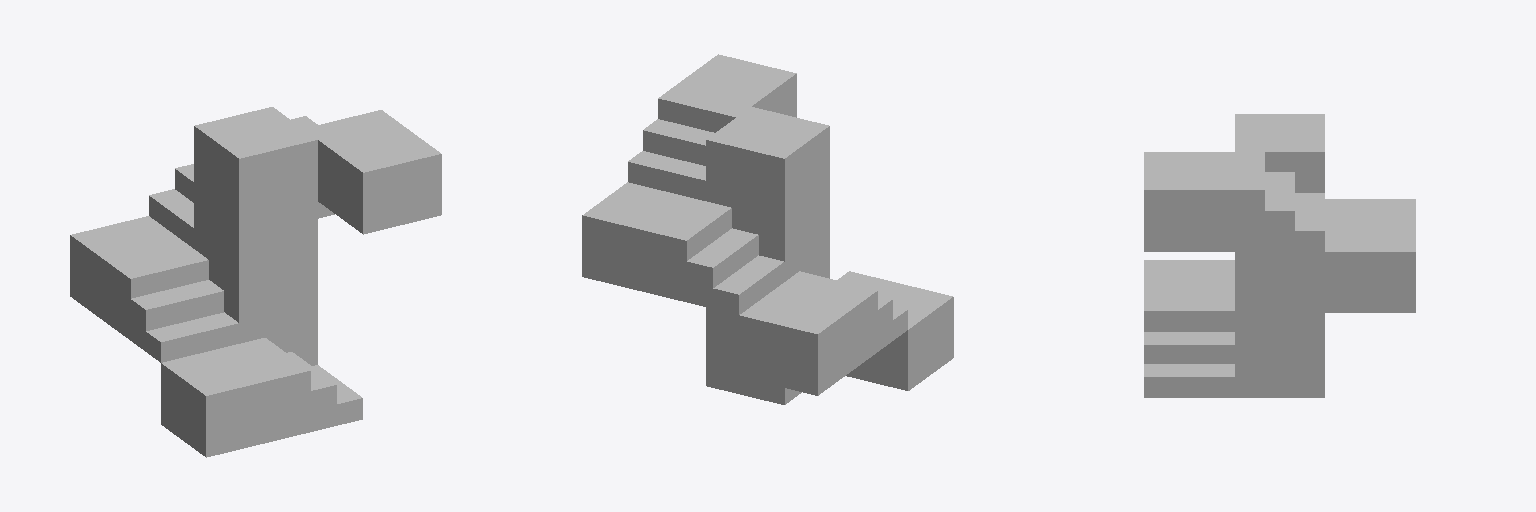
Rendered from steps1-original.obj.
The picture shows the model from 3 angles: view 1: azimuth 30°, elevation 25°; view 2: azimuth 150°, elevation 25°; view 3: azimuth 270°, elevation 25°; orthographic projection.
Parts seen in each view (by area): view 1: 柱子, 大平面1, 大平面4, 大平面2, 台阶2.3, 台阶2.2, 台阶2.1, 台阶1.3, 台阶3.1, 台阶1.2, 台阶4.3, 台阶1.1 (+1 smaller); view 2: 柱子, 大平面2, 大平面3, 大平面1, 大平面4, 台阶3.3, 台阶3.2, 台阶4.1, 台阶3.1, 台阶4.3, 台阶4.2, 台阶2.3 (+1 smaller); view 3: 柱子, 大平面4, 大平面3, 大平面1, 台阶1.1, 台阶1.3, 台阶4.3, 台阶1.2, 台阶4.2, 台阶4.1, 台阶3.3.
Boxes of the visible parts, <box> form: 柱子: <box>194,107,317,365</box>; 大平面1: <box>161,344,284,457</box>; 大平面4: <box>318,121,441,234</box>; 大平面2: <box>70,216,192,329</box>; 台阶2.3: <box>116,249,208,340</box>; 台阶2.2: <box>131,280,223,351</box>; 台阶2.1: <box>146,312,238,362</box>; 台阶1.3: <box>240,338,310,437</box>; 台阶3.1: <box>149,189,193,248</box>; 台阶1.2: <box>287,352,336,431</box>; 台阶4.3: <box>304,110,395,139</box>; 台阶1.1: <box>313,365,362,425</box>; 柱子: <box>706,107,829,404</box>; 大平面2: <box>739,282,862,395</box>; 大平面3: <box>582,182,705,295</box>; 大平面1: <box>846,277,953,390</box>; 大平面4: <box>673,54,796,117</box>; 台阶3.3: <box>661,201,731,301</box>; 台阶3.2: <box>687,228,758,308</box>; 台阶4.1: <box>628,151,705,200</box>; 台阶3.1: <box>713,255,784,314</box>; 台阶4.3: <box>658,88,750,132</box>; 台阶4.2: <box>643,119,714,165</box>; 台阶2.3: <box>786,271,877,362</box>; 柱子: <box>1235,114,1324,397</box>; 大平面4: <box>1144,152,1234,251</box>; 大平面3: <box>1325,214,1415,312</box>; 大平面1: <box>1144,260,1234,297</box>; 台阶1.1: <box>1144,364,1234,397</box>; 台阶1.3: <box>1144,298,1234,331</box>; 台阶4.3: <box>1235,152,1264,251</box>; 台阶1.2: <box>1144,332,1234,363</box>; 台阶4.2: <box>1265,172,1294,251</box>; 台阶4.1: <box>1295,193,1324,251</box>; 台阶3.3: <box>1325,201,1415,213</box>.
Bounding box in the file's own units: 300 × 300 × 300.